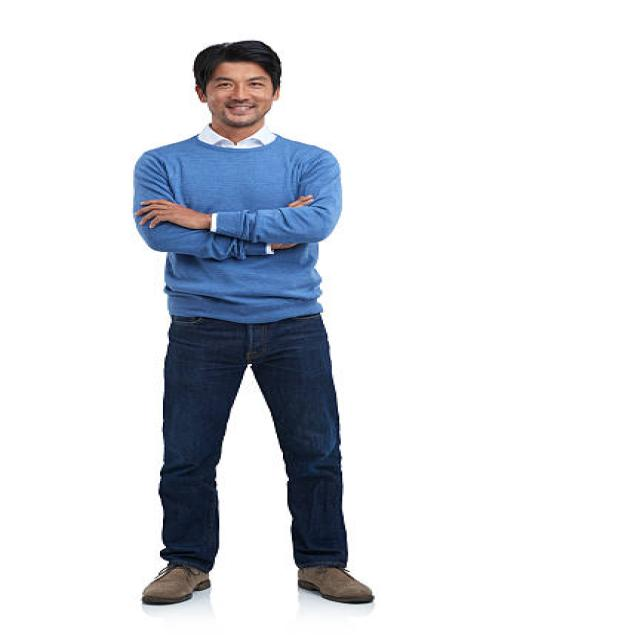Edited images: (102, 21, 406, 613)
